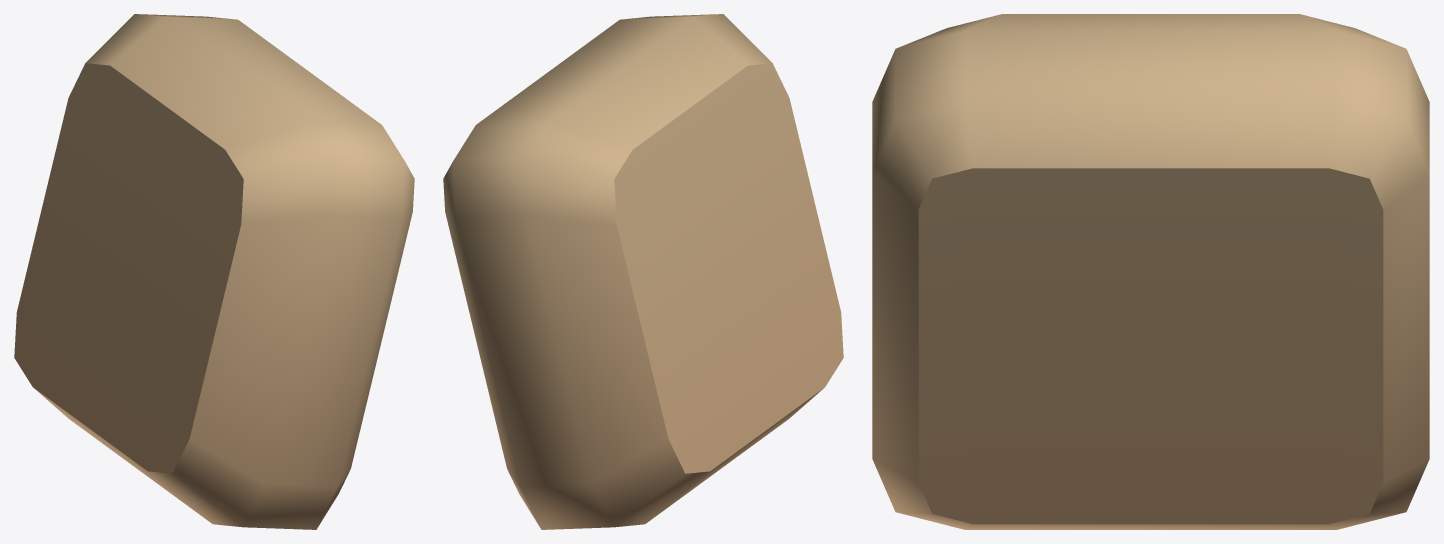
Rendered from pillow-square-reclining.glb.
3 views of the same model, side by side, from view 1: azimuth 30°, elevation 25°; view 2: azimuth 150°, elevation 25°; view 3: azimuth 270°, elevation 25° (orthographic). The views are drawn at different scales.
Parts seen in each view (by area): view 1: pillow-square-reclining; view 2: pillow-square-reclining; view 3: pillow-square-reclining.
Boxes of the visible parts, bbox=[...] form: pillow-square-reclining: bbox=[14, 14, 414, 529]; pillow-square-reclining: bbox=[443, 14, 843, 529]; pillow-square-reclining: bbox=[872, 14, 1429, 529].
Bounding box in the file's own units: 0.194 × 0.3054 × 0.3.
